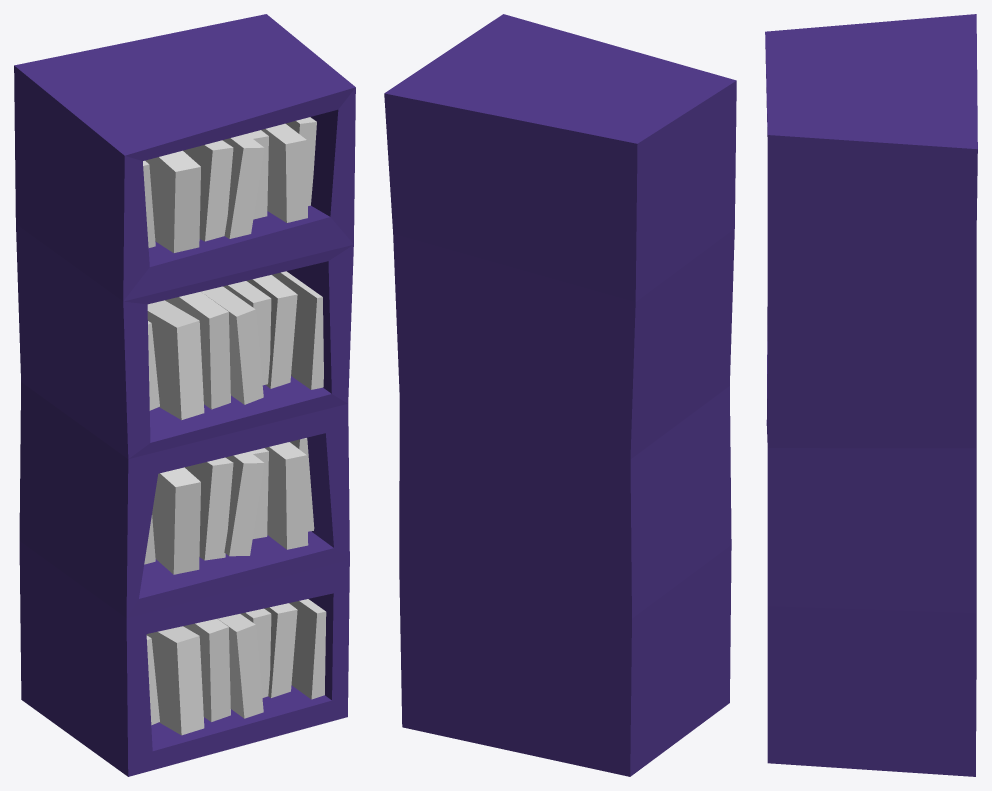
File: bookshelf_test.fbx
The picture shows the model from 3 angles, left to right: view 1: azimuth 30°, elevation 25°; view 2: azimuth 150°, elevation 25°; view 3: azimuth 270°, elevation 25°; orthographic projection.
Visible parts, largest first — view 1: bookshelf; view 2: bookshelf; view 3: bookshelf.
Boxes of the visible parts, box(x1,y1,x2,y2) form: bookshelf: box(14, 14, 355, 776); bookshelf: box(384, 14, 736, 776); bookshelf: box(765, 14, 977, 776).
Bounding box in the file's own units: 91 × 221 × 65.79.
